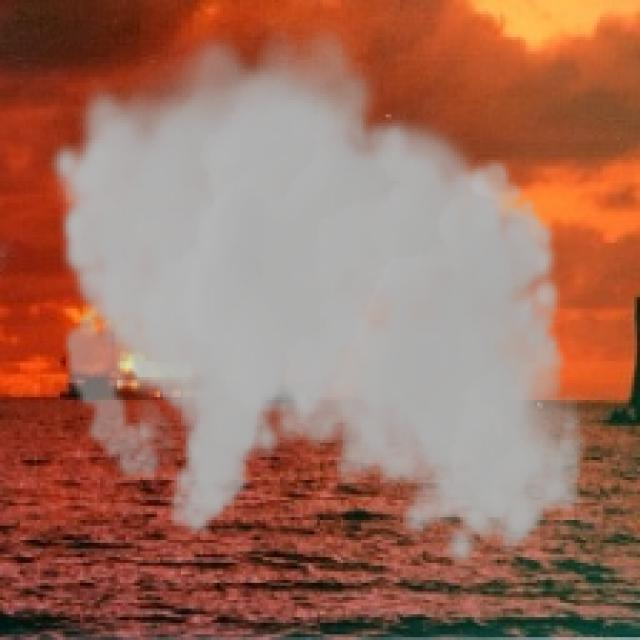smoke: (46, 14, 588, 572)
